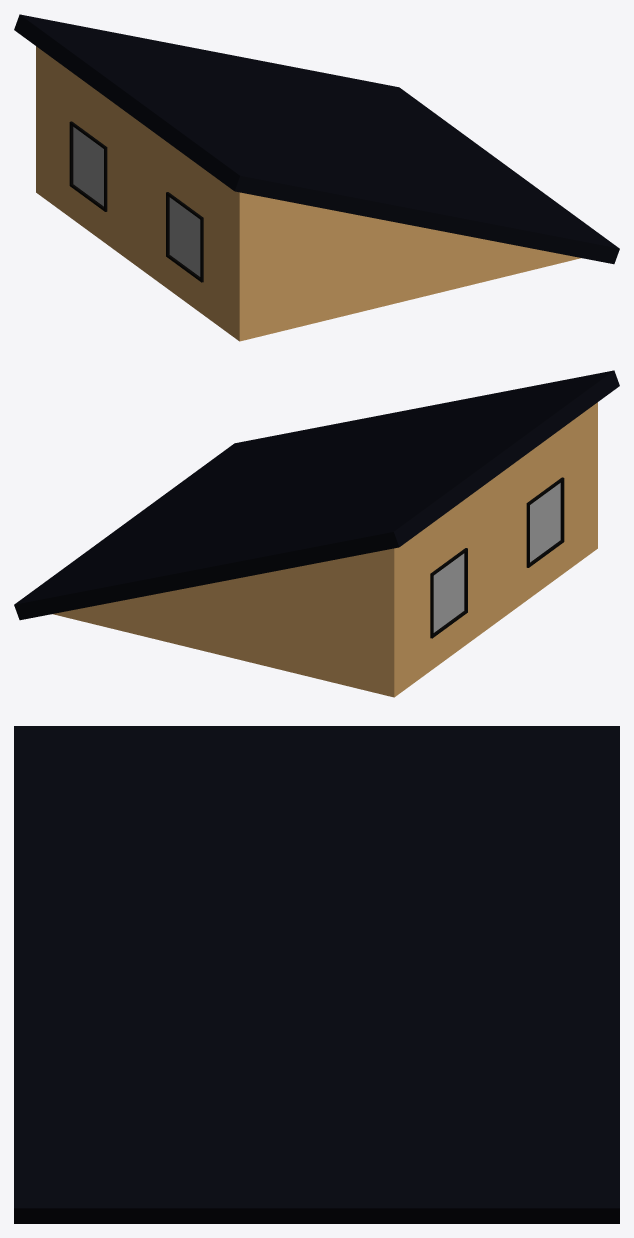
File: Prop_HouseRoof_02.FBX
The picture shows the model from 3 angles, top to bottom: view 1: azimuth 30°, elevation 25°; view 2: azimuth 150°, elevation 25°; view 3: azimuth 270°, elevation 25°; orthographic projection. The views are drawn at different scales.
Visible parts, largest first — view 1: Prop_HouseRoof_02; view 2: Prop_HouseRoof_02; view 3: Prop_HouseRoof_02.
Boxes of the visible parts, bbox=[...] form: Prop_HouseRoof_02: bbox=[14, 14, 619, 341]; Prop_HouseRoof_02: bbox=[14, 370, 619, 697]; Prop_HouseRoof_02: bbox=[14, 726, 619, 1223].
Size of the model in its own units: 258 by 115 by 256.
